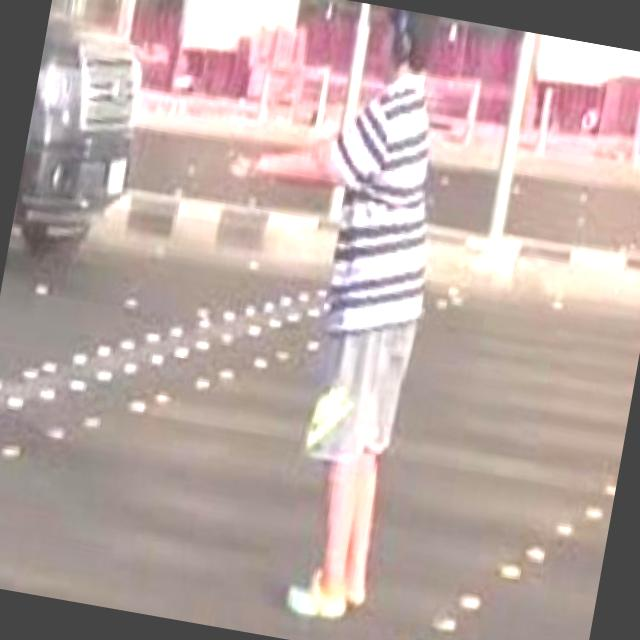Person: (156, 0, 474, 631)
